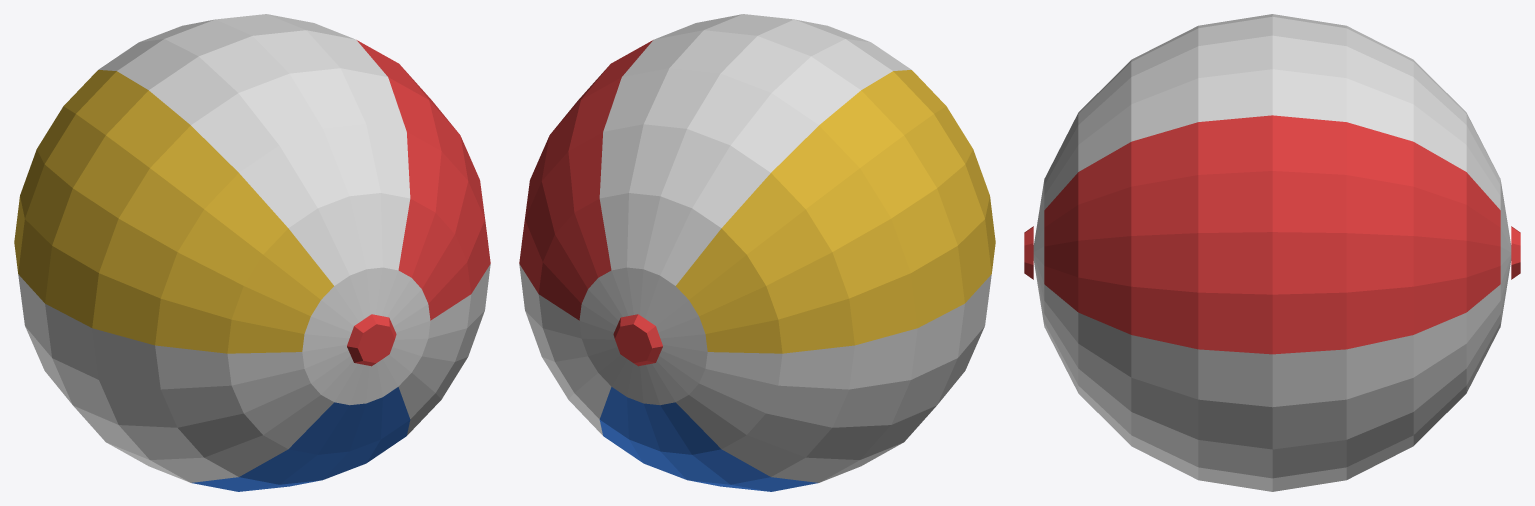
The model's file is hazard-beachball.glb.
The picture shows the model from 3 angles, left to right: view 1: azimuth 30°, elevation 25°; view 2: azimuth 150°, elevation 25°; view 3: azimuth 270°, elevation 25°; orthographic projection.
Parts seen in each view (by area): view 1: hazard-beachball; view 2: hazard-beachball; view 3: hazard-beachball.
Part boxes in pixels (<box>): hazard-beachball: <box>14,14,490,491</box>; hazard-beachball: <box>519,14,995,491</box>; hazard-beachball: <box>1024,14,1520,491</box>.
Size of the model in its own units: 2 by 2 by 2.07.
